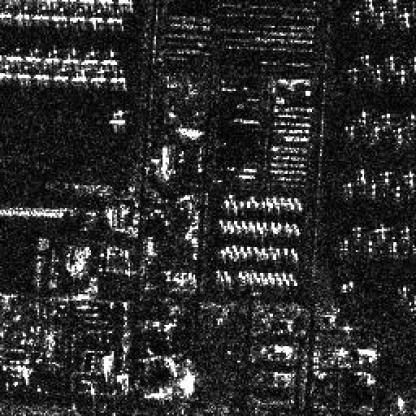airplane: (396, 5, 413, 28), (109, 107, 128, 125), (390, 127, 406, 146), (68, 68, 88, 83), (99, 50, 117, 66), (52, 5, 68, 23), (106, 8, 124, 24), (372, 222, 388, 240), (106, 69, 125, 84), (50, 67, 70, 81), (367, 67, 387, 81), (351, 224, 364, 245), (13, 65, 31, 80), (5, 45, 21, 61), (23, 47, 39, 63), (42, 47, 58, 63), (70, 6, 86, 22), (358, 52, 374, 68), (354, 109, 372, 123), (82, 50, 98, 65), (90, 68, 106, 83), (89, 8, 104, 24), (346, 66, 359, 84), (32, 66, 48, 80), (62, 49, 78, 63), (15, 6, 31, 20), (32, 7, 48, 21), (379, 109, 393, 125), (367, 180, 379, 198), (343, 122, 359, 135), (338, 236, 351, 252), (403, 112, 414, 130), (369, 124, 383, 138), (0, 3, 13, 18), (395, 68, 408, 83), (342, 180, 354, 196), (380, 166, 392, 182), (384, 55, 396, 70), (0, 63, 11, 79), (351, 8, 362, 24), (356, 166, 367, 182), (392, 182, 403, 198), (400, 226, 411, 242), (376, 10, 388, 24), (388, 239, 400, 253), (403, 169, 414, 184), (364, 239, 375, 253), (385, 0, 400, 10), (364, 0, 375, 13), (237, 198, 244, 212), (233, 250, 240, 262), (231, 198, 237, 212), (291, 221, 299, 231), (408, 57, 414, 70), (267, 245, 273, 257), (274, 245, 280, 257), (286, 224, 292, 236), (278, 193, 284, 205), (224, 245, 231, 255), (281, 247, 288, 257), (258, 245, 265, 255), (245, 245, 252, 255), (232, 219, 239, 229), (294, 226, 301, 236), (271, 226, 278, 236), (257, 270, 263, 281), (280, 270, 286, 281), (223, 197, 229, 208), (274, 200, 280, 211), (268, 221, 276, 229), (219, 249, 226, 258), (223, 270, 229, 280), (242, 268, 247, 280), (266, 271, 272, 281), (291, 276, 297, 286), (291, 252, 297, 262), (230, 244, 236, 254), (254, 250, 260, 260), (226, 218, 232, 228), (240, 218, 246, 228), (283, 221, 289, 231), (258, 224, 264, 234), (249, 193, 255, 203), (267, 200, 273, 210), (282, 200, 288, 210), (289, 247, 296, 255), (229, 224, 236, 232), (247, 275, 252, 286), (228, 192, 233, 203), (289, 200, 294, 211), (219, 274, 224, 284), (226, 274, 231, 284), (235, 270, 240, 280), (239, 274, 244, 284), (250, 270, 255, 280), (273, 271, 278, 281), (276, 276, 281, 286), (228, 250, 233, 260), (252, 245, 257, 255), (276, 221, 281, 231), (247, 219, 252, 229), (255, 219, 260, 229), (245, 198, 250, 208), (260, 198, 265, 208), (214, 270, 220, 278), (283, 278, 289, 286), (262, 252, 268, 260), (241, 250, 247, 258), (218, 218, 224, 226), (221, 224, 227, 232), (254, 198, 260, 206), (292, 195, 298, 203), (237, 223, 242, 232), (265, 193, 270, 202), (296, 200, 300, 211), (255, 276, 260, 284), (262, 276, 266, 286), (270, 276, 274, 286), (272, 252, 276, 262), (239, 246, 244, 254), (262, 221, 266, 231), (250, 224, 255, 232), (272, 193, 276, 203), (286, 195, 291, 203), (288, 272, 292, 280)
